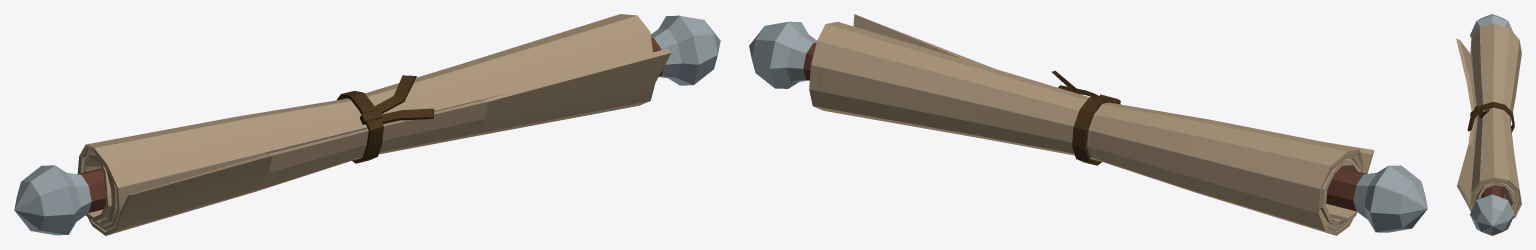
The model's file is PT_Scroll_01_a.fbx.
3 views of the same model, side by side, from view 1: azimuth 30°, elevation 25°; view 2: azimuth 150°, elevation 25°; view 3: azimuth 270°, elevation 25° (orthographic). The views are drawn at different scales.
Visible parts, largest first — view 1: PT_Scroll_01_a; view 2: PT_Scroll_01_a; view 3: PT_Scroll_01_a.
Part boxes in pixels (left/top/right/bottom): PT_Scroll_01_a: left=14, top=14, right=720, bottom=235; PT_Scroll_01_a: left=749, top=14, right=1427, bottom=235; PT_Scroll_01_a: left=1456, top=14, right=1521, bottom=235.
Bounding box in the file's own units: 52.56 × 6.13 × 7.28.
